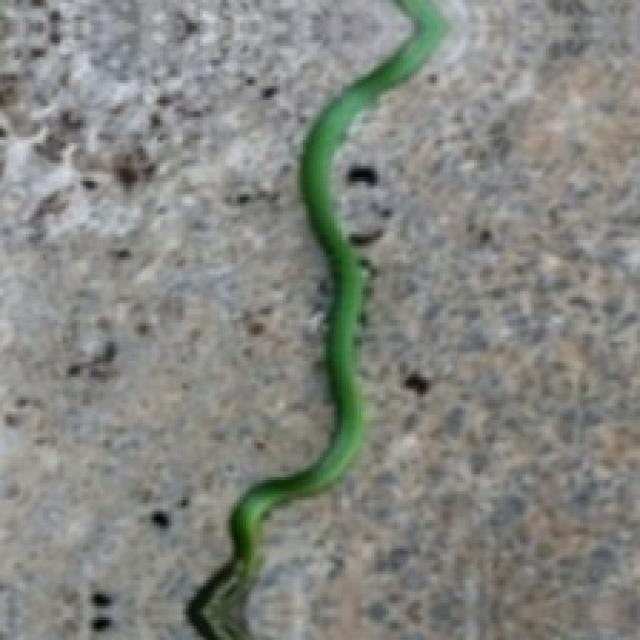red-tailed green ratsnake: (186, 0, 446, 637)
